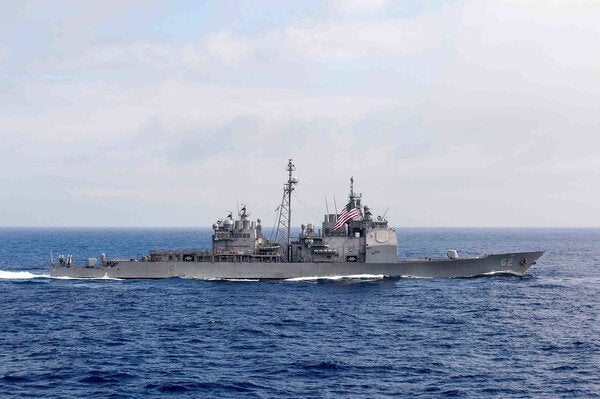Ship: (49, 162, 543, 277)
